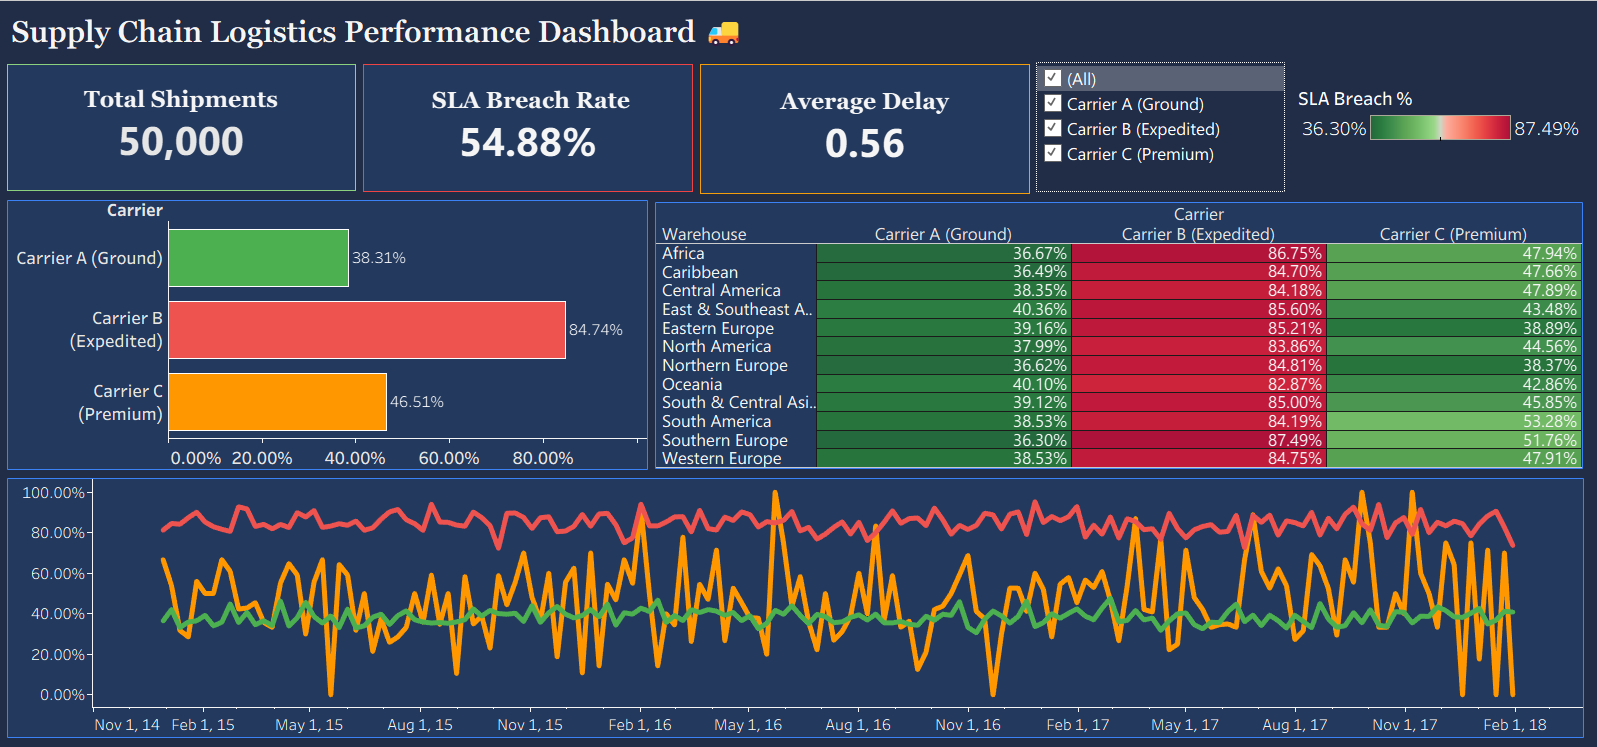

What the dashboard file says about the page in this screenshot:
{"tool":"tableau","page":{"name":"Dashboard 1","canvas":[1600,900],"ordinal":0},"visuals":[{"type":"text","box":[11,155,751,59]},{"type":"filter","title":"Carrier Performance","param":"[federated.0u0hfe80do17mh13qt4tm14mp9sb].[none:carrier:nk]","box":[1039,214,249,130]},{"type":"worksheet","title":"KPI - Total Shipments","mark":"Automatic","box":[10,216,349,127]},{"type":"worksheet","title":"KPI - SLA Breach %","mark":"Automatic","box":[366,216,330,128]},{"type":"worksheet","title":"KPI - Average Delay","mark":"Automatic","box":[703,216,330,130]},{"type":"legend","title":"SheetWarehouse x Carrier Heatmap 9","param":"[federated.0u0hfe80do17mh13qt4tm14mp9sb].[usr:Calculation_1143914334551097344:qk","box":[1301,237,286,118]},{"type":"worksheet","title":"Carrier Performance","mark":"Automatic","rows":["carrier"],"cols":["Calculation_1143914334551097344"],"box":[10,352,641,270]},{"type":"worksheet","title":"SheetWarehouse x Carrier Heatmap 9","mark":"Square","rows":["warehouse"],"cols":["carrier"],"box":[658,354,928,267]},{"type":"worksheet","title":"Weekly SLA Trend","mark":"Line","rows":["Calculation_1143914334551097344"],"cols":["order_week"],"box":[10,630,1577,260]}]}

Visuals, with their boxes on the page's 1600x900 design canvas (x1, y1, x2, y2). These are canvas units, not pixel positions in the 1597x747 screenshot, which may show the page scaled, cropped or inside an application window:
text: Rect(11, 155, 762, 214)
"Carrier Performance" filter: Rect(1039, 214, 1288, 344)
"KPI - Total Shipments" worksheet: Rect(10, 216, 359, 343)
"KPI - SLA Breach %" worksheet: Rect(366, 216, 696, 344)
"KPI - Average Delay" worksheet: Rect(703, 216, 1033, 346)
"SheetWarehouse x Carrier Heatmap 9" legend: Rect(1301, 237, 1587, 355)
"Carrier Performance" worksheet: Rect(10, 352, 651, 622)
"SheetWarehouse x Carrier Heatmap 9" worksheet (Square marks): Rect(658, 354, 1586, 621)
"Weekly SLA Trend" worksheet (Line marks): Rect(10, 630, 1587, 890)
